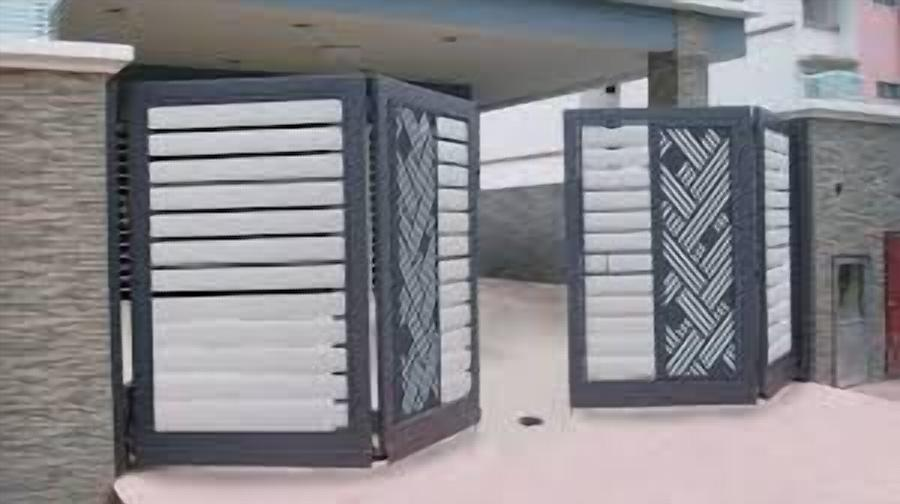Gate: (110, 74, 481, 471), (563, 104, 803, 408)
